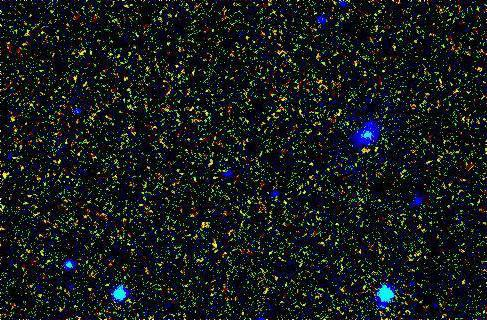star: (351, 132, 381, 162)
